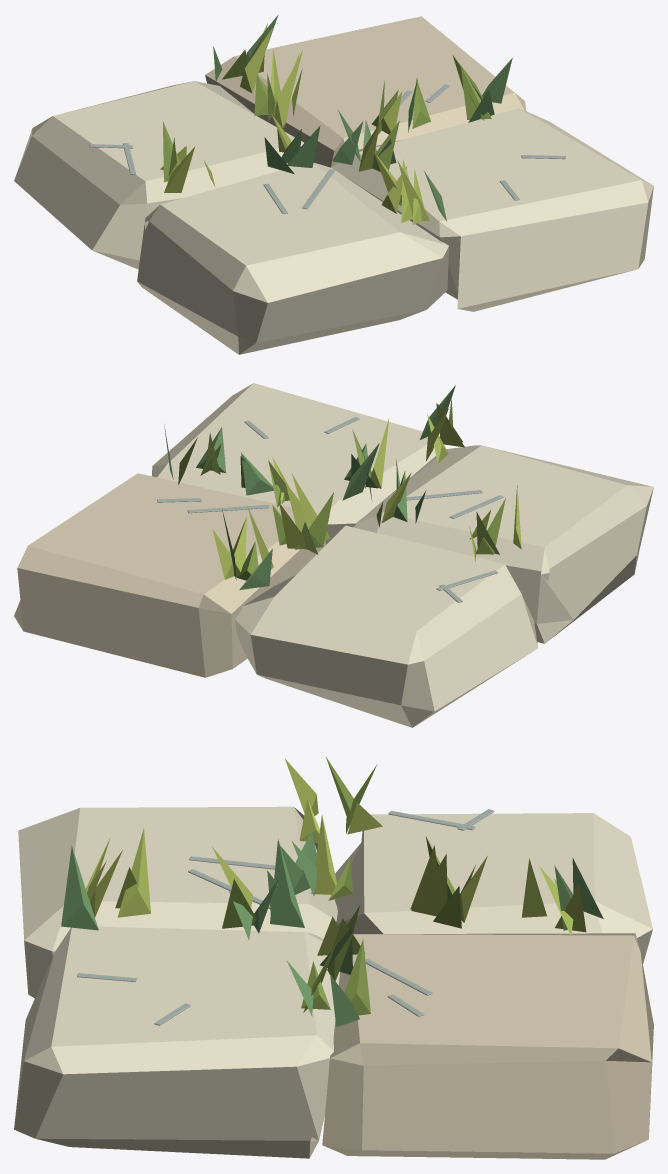
Rendered from slab_grass_light.glb.
The picture shows the model from 3 angles, top to bottom: view 1: azimuth 30°, elevation 25°; view 2: azimuth 150°, elevation 25°; view 3: azimuth 270°, elevation 25°; orthographic projection. The views are drawn at different scales.
Parts seen in each view (by area): view 1: slab_grass_light; view 2: slab_grass_light; view 3: slab_grass_light.
Part boxes in pixels (<box>): slab_grass_light: <box>14,14,653,354</box>; slab_grass_light: <box>14,383,653,727</box>; slab_grass_light: <box>14,757,653,1159</box>.
Size of the model in its own units: 1.04 by 0.3526 by 1.04.
